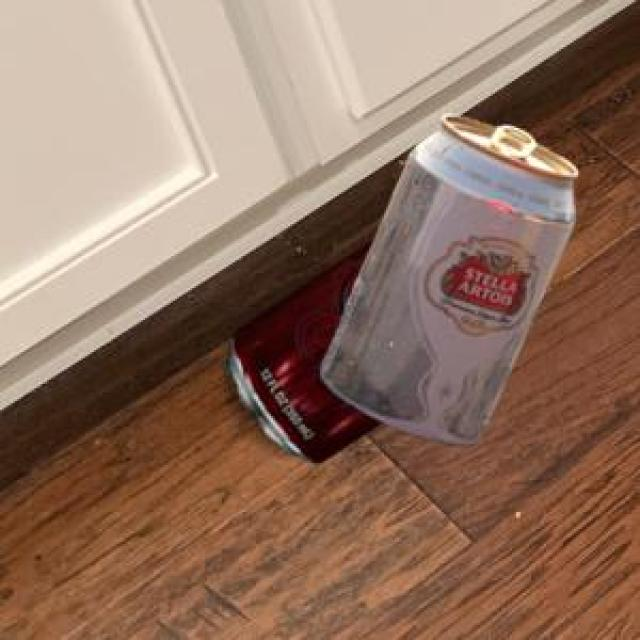logam: (319, 112, 575, 443), (223, 238, 379, 460)
